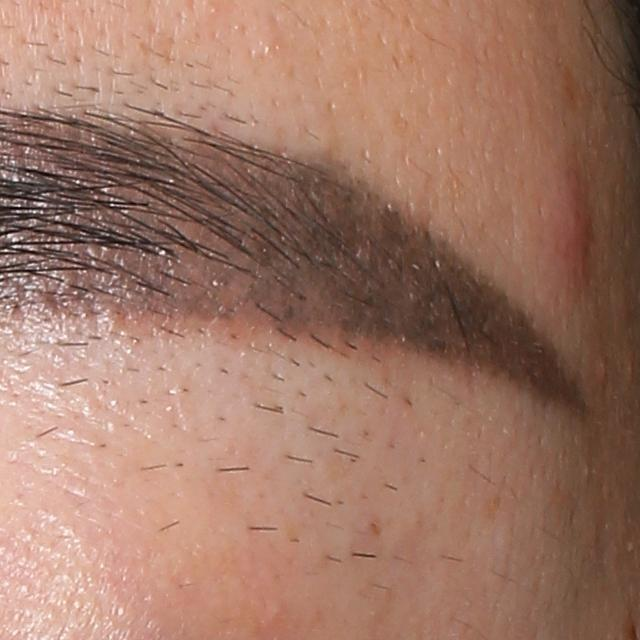papule: (542, 187, 593, 261)
